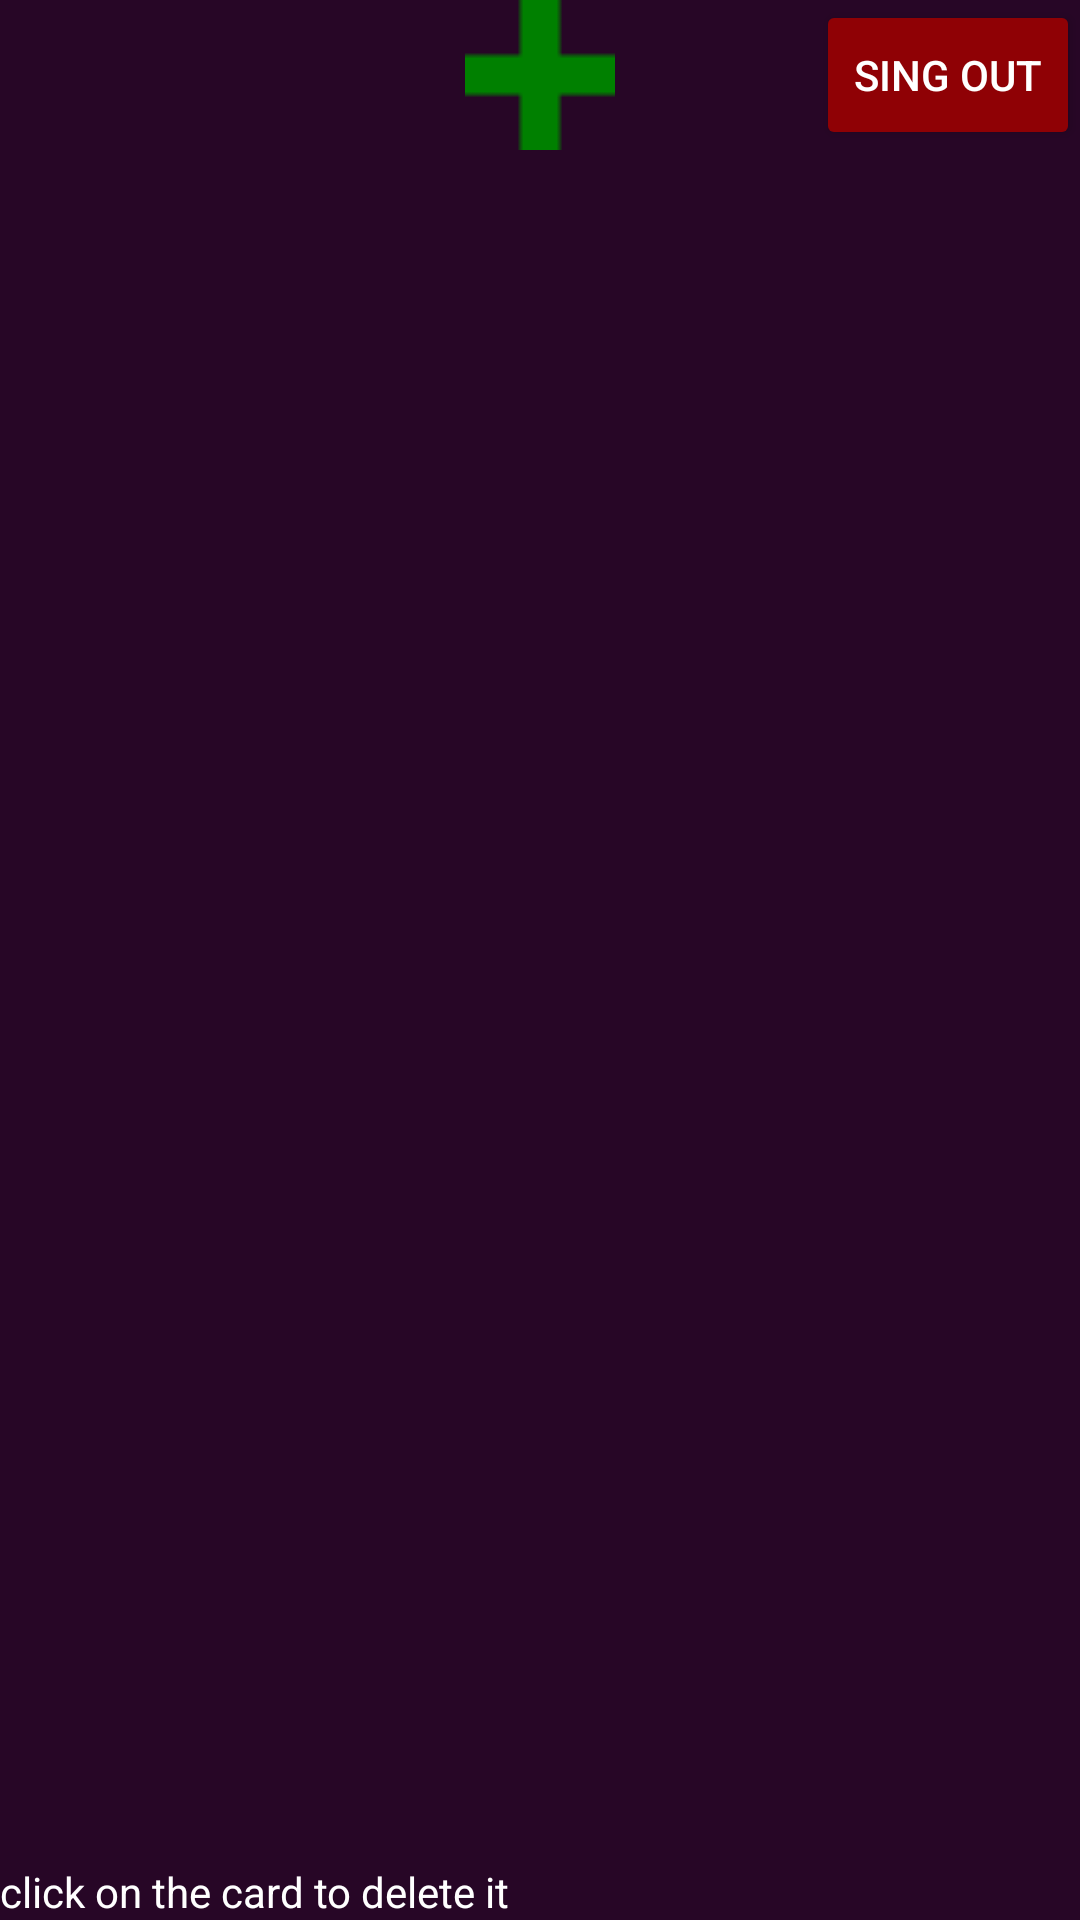

Icon bounding boxes for this 1080 x 1920 phone screenshot, format (x1, y1, x2, y2):
add: (465, 0, 615, 150)
